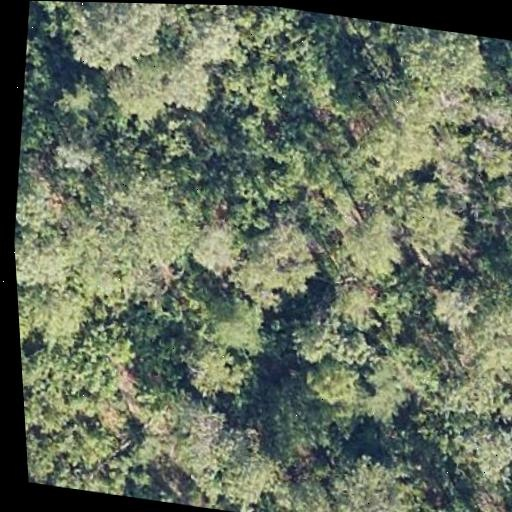tree-top: (62, 171, 196, 300), (19, 315, 139, 440), (344, 83, 445, 182), (232, 212, 323, 308), (386, 179, 479, 267), (62, 1, 165, 79), (255, 373, 341, 465), (392, 25, 493, 102), (329, 202, 415, 289), (210, 51, 305, 127), (196, 283, 280, 364), (316, 452, 427, 512), (208, 433, 292, 512), (430, 411, 512, 490), (16, 275, 97, 354), (166, 399, 242, 480), (38, 433, 129, 496), (177, 337, 254, 406), (456, 291, 512, 384), (13, 220, 78, 296), (350, 356, 420, 426), (421, 272, 489, 341), (152, 51, 223, 115), (321, 276, 394, 338), (185, 5, 254, 70), (47, 63, 111, 132), (182, 213, 249, 276), (11, 161, 67, 236), (42, 125, 109, 184), (284, 304, 351, 363), (458, 122, 512, 194), (303, 356, 366, 413), (319, 13, 406, 49), (502, 334, 512, 438), (206, 5, 291, 13), (509, 126, 512, 203)
